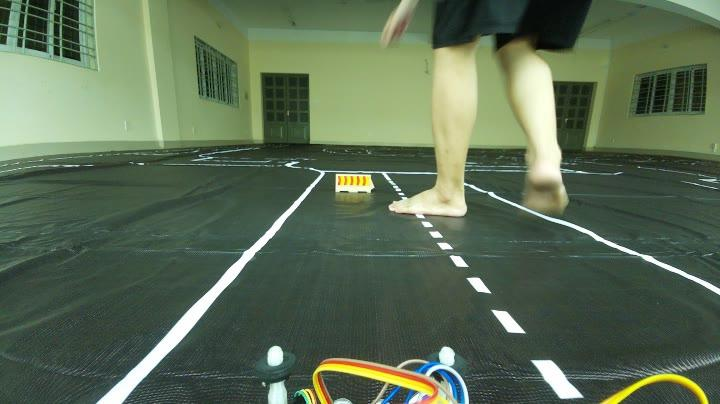roadblock: (332, 166, 381, 197)
